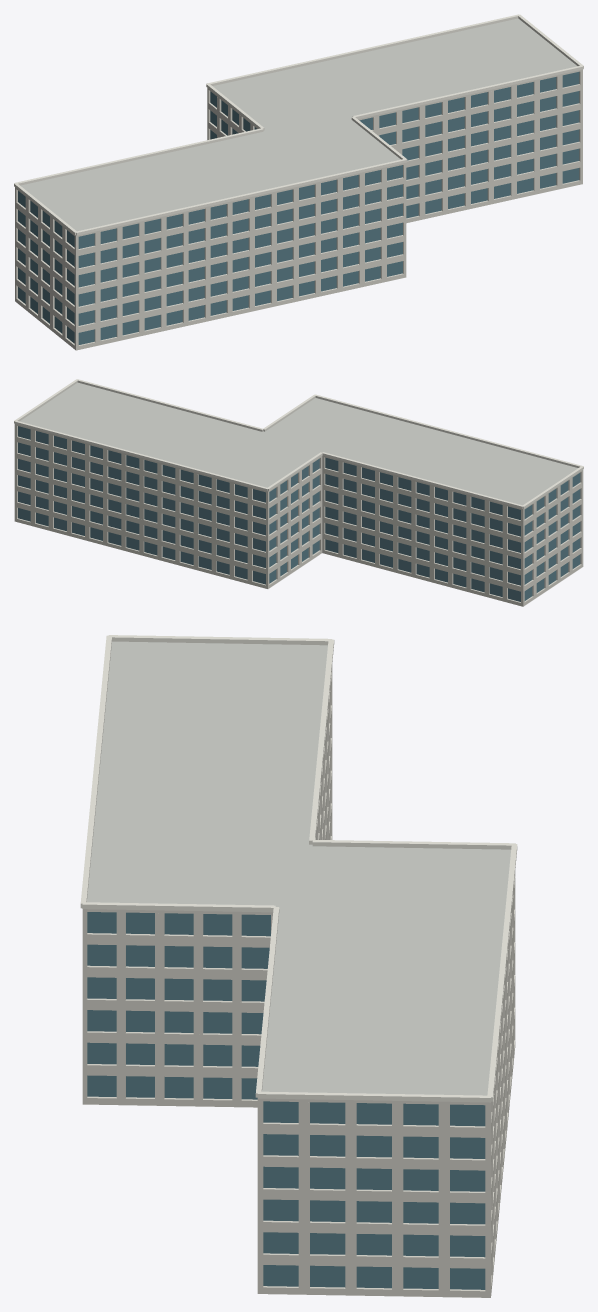
File: sb_1075272611.far.glb
3 renders of one model, top to bottom at view 1: azimuth 30°, elevation 25°; view 2: azimuth 150°, elevation 25°; view 3: azimuth 270°, elevation 25°, orthographic. The views are drawn at different scales.
Parts seen in each view (by area): view 1: wall, roof, glass, trim; view 2: wall, glass, roof, trim; view 3: roof, wall, glass, trim.
Part boxes in pixels (x1,y1,x2,y2): wall: [15, 69, 582, 350]; roof: [21, 18, 577, 231]; glass: [18, 72, 579, 344]; trim: [14, 14, 583, 235]; wall: [14, 424, 583, 606]; glass: [18, 426, 580, 601]; roof: [20, 382, 577, 505]; trim: [14, 379, 583, 508]; roof: [87, 641, 510, 1095]; wall: [82, 665, 515, 1297]; glass: [87, 912, 485, 1289]; trim: [80, 635, 517, 1102].
Bounding box in the file's own units: 97.13 × 19.64 × 38.72.
